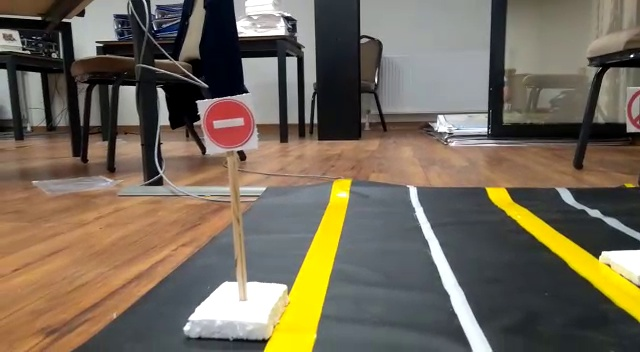girisi_olmayan_yol: (199, 95, 259, 149)
